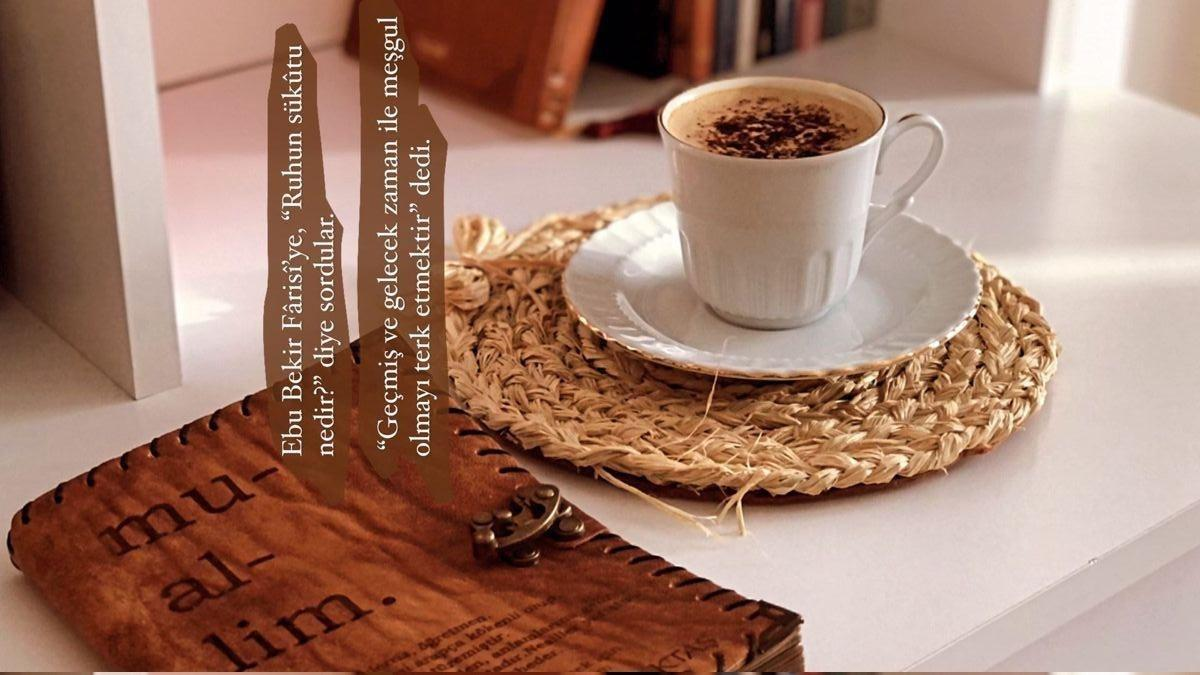cup-handle: (656, 73, 946, 330)
